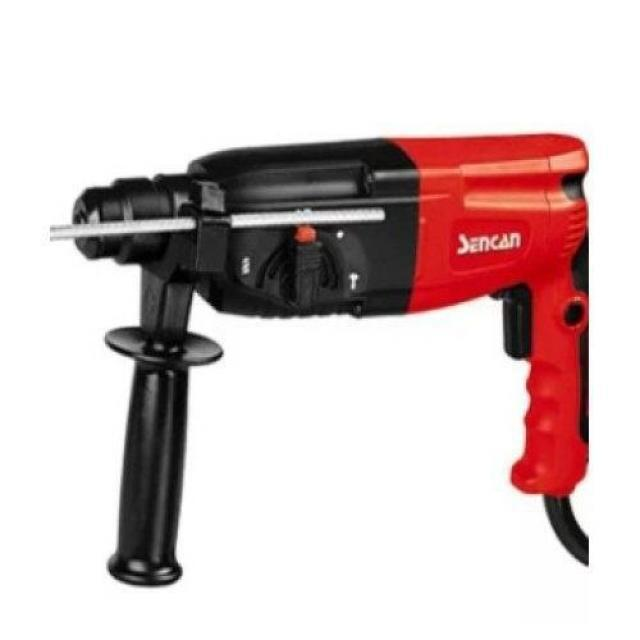drill: (50, 132, 589, 588)
